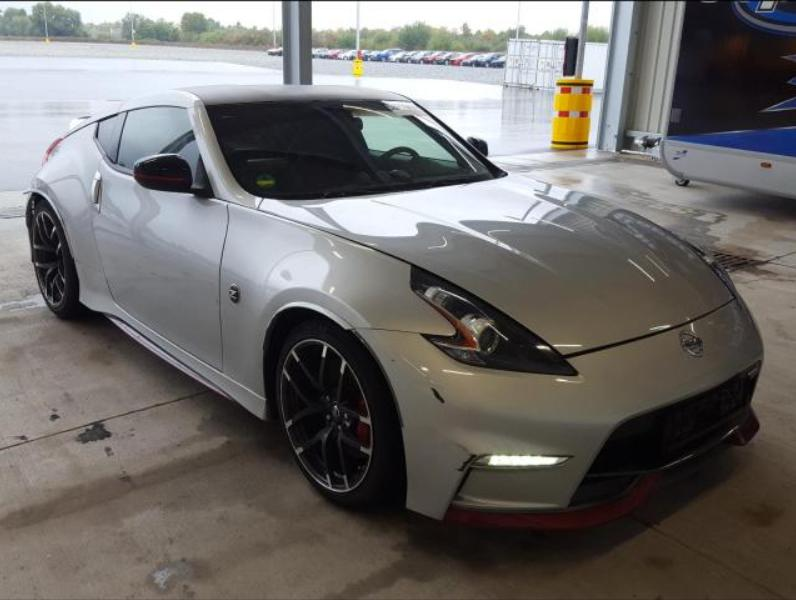Back-wheel: (31, 200, 86, 320)
Back-window: (96, 114, 118, 154)
Fender: (220, 201, 451, 400)
Front-bumper: (349, 296, 761, 529)
Front-door: (90, 112, 228, 373)
Front-wheel: (276, 320, 396, 505)
Front-window: (116, 106, 199, 184)
Grille: (566, 361, 761, 506)
Headlight: (411, 264, 577, 376), (687, 241, 741, 298)
Hood: (258, 171, 734, 356)
License-plate: (662, 376, 746, 452)
Mirror: (132, 153, 204, 193), (468, 136, 488, 156)
Quarter-panel: (25, 120, 115, 313)
Rocker-panel: (103, 304, 265, 420)
Roof: (168, 84, 412, 104)
Tail-light: (39, 137, 62, 171)
Trunk: (61, 98, 131, 140)
Windshield: (205, 101, 492, 198)
